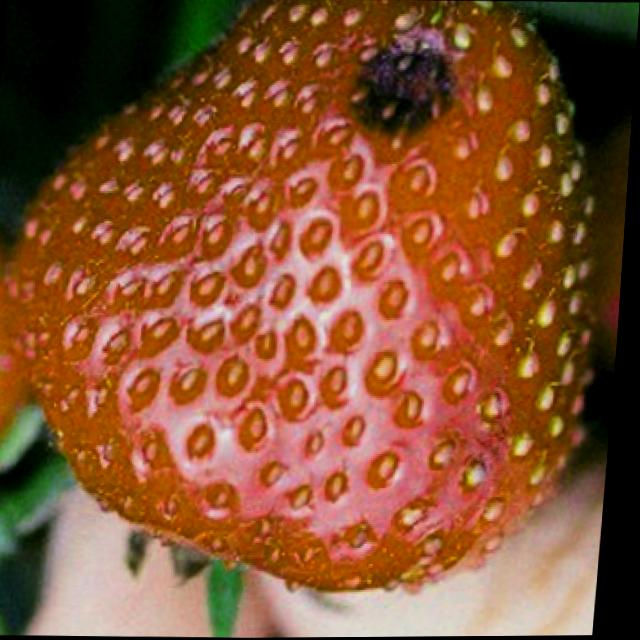Anthracnose Fruit Rot: (344, 0, 468, 141)
